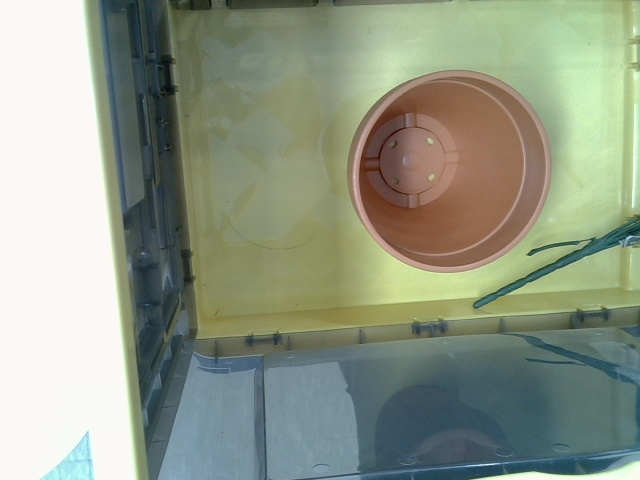화분: (345, 68, 554, 274)
